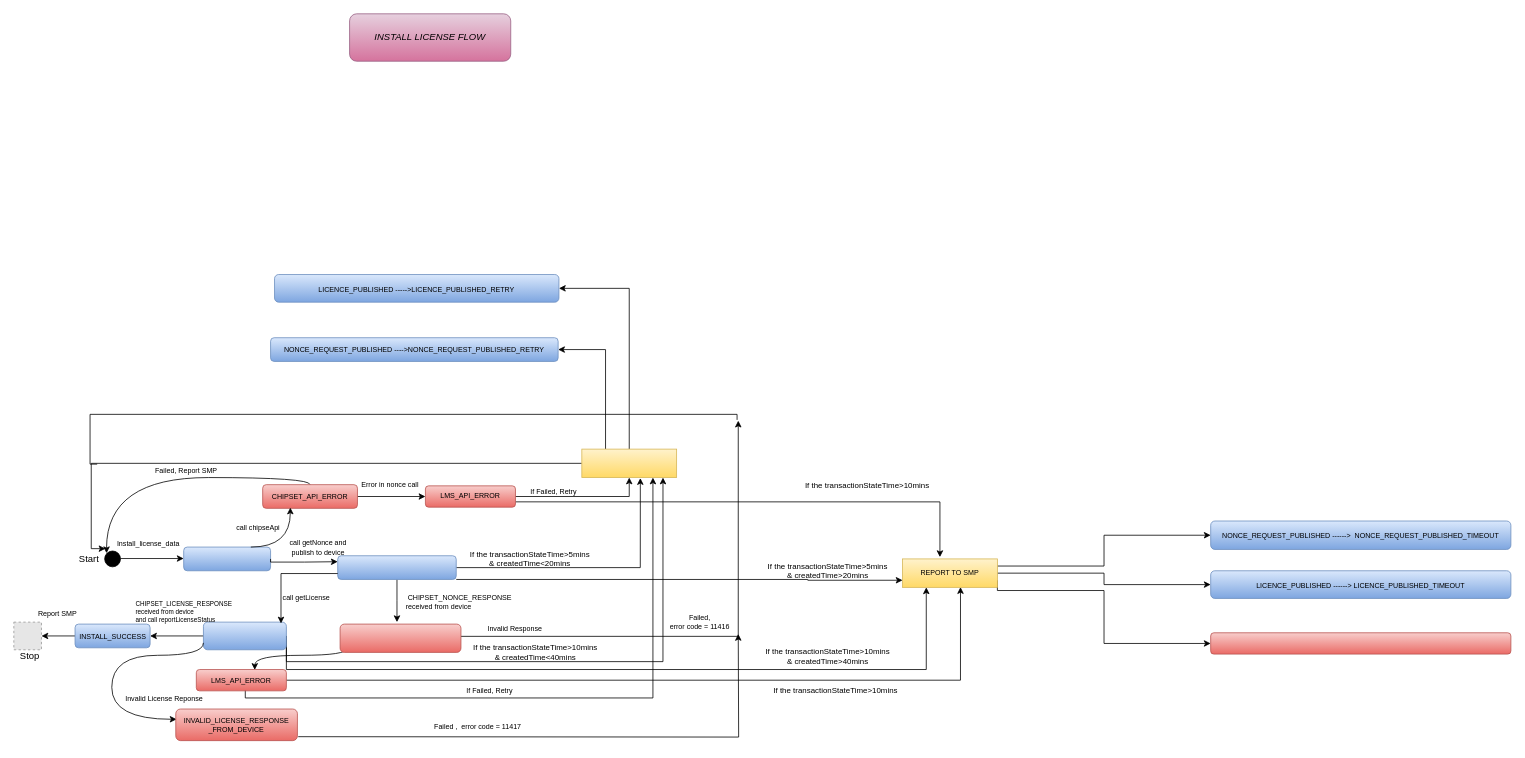
The diagram is 1525 pixels wide and 758 high, and some of its shapes have lost their labels. Grey dashed boxes stand in for pictures. The shapes that lost their labels are listed below. From the top down, each one's centre as x and y in pixels, then its label:
(x=629, y=463): RETRY
(x=227, y=558): REQUEST_RECEIVED
(x=396, y=567): NONCE_REQUEST_PUBLISHED
(x=244, y=635): LICENCE_PUBLISHED
(x=400, y=637): INVALID_NONCE_RESPONSE _FROM_DEVICE
(x=1360, y=643): LMS_API_ERROR -------> LMS_API_TIMEOUT
